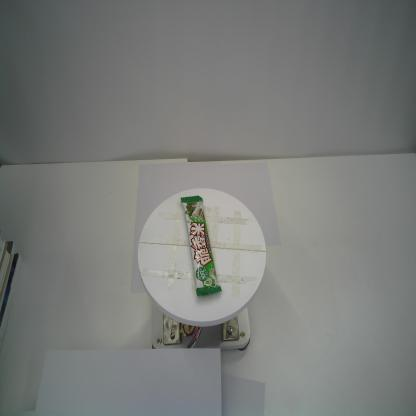Chocolate: (179, 195, 223, 297)
